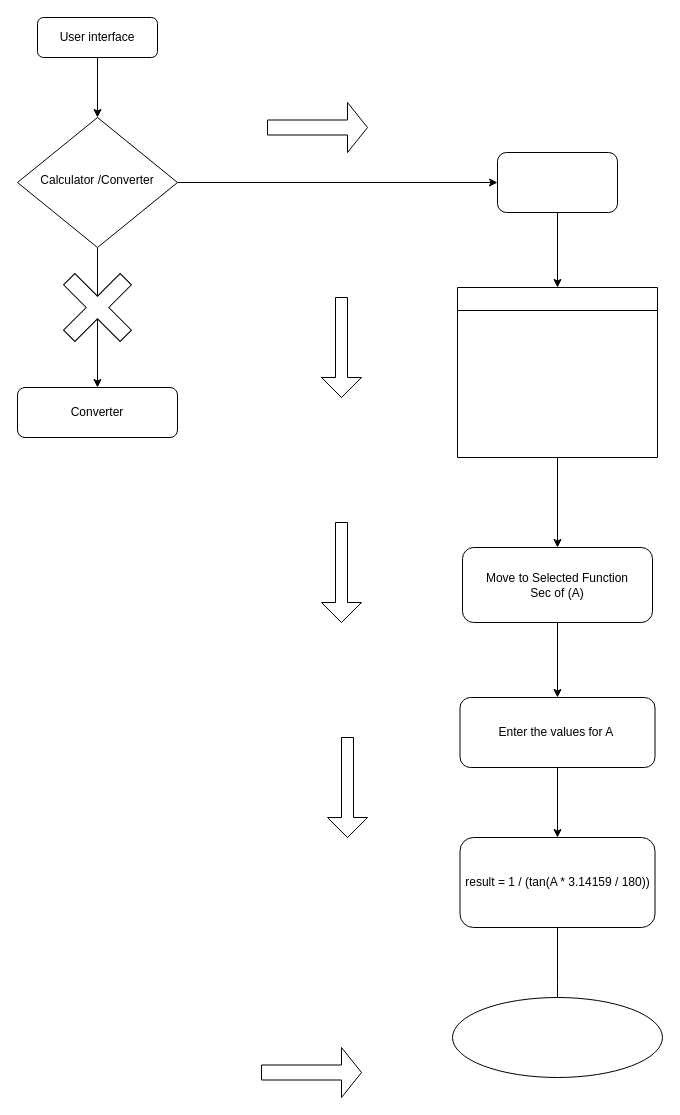
Image size: 680x1115. Some labels were removed from this diagram. The centre of each missing label's shape, as x and y in pixels:
"Calculator" belongs at [557,182].
"Function of Calculator 22.Sec(A)" belongs at [557,372].
"Result for the user" belongs at [557,1037].
